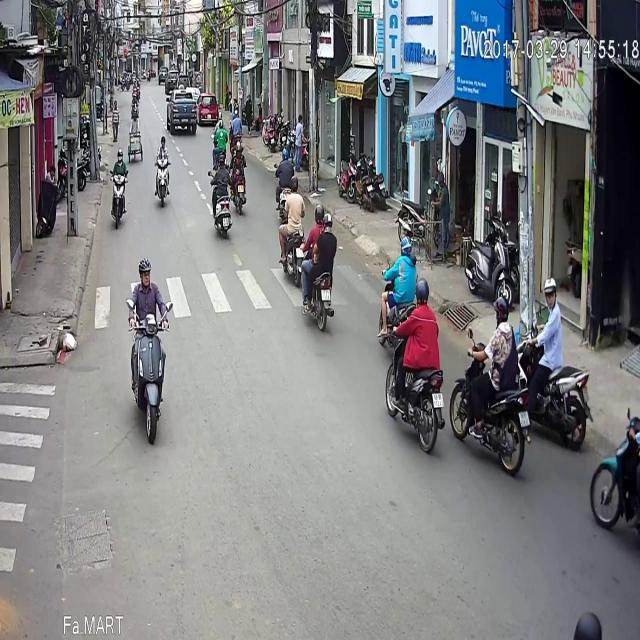car: (228, 82, 246, 157), (166, 31, 196, 76), (195, 34, 219, 68)
motorcycle: (449, 240, 532, 415), (514, 218, 592, 392), (377, 218, 445, 396), (129, 204, 173, 382), (590, 346, 640, 492), (378, 177, 418, 291), (302, 148, 338, 274), (278, 118, 306, 230), (207, 94, 232, 180), (109, 90, 128, 170), (274, 89, 294, 163), (153, 76, 171, 150)
